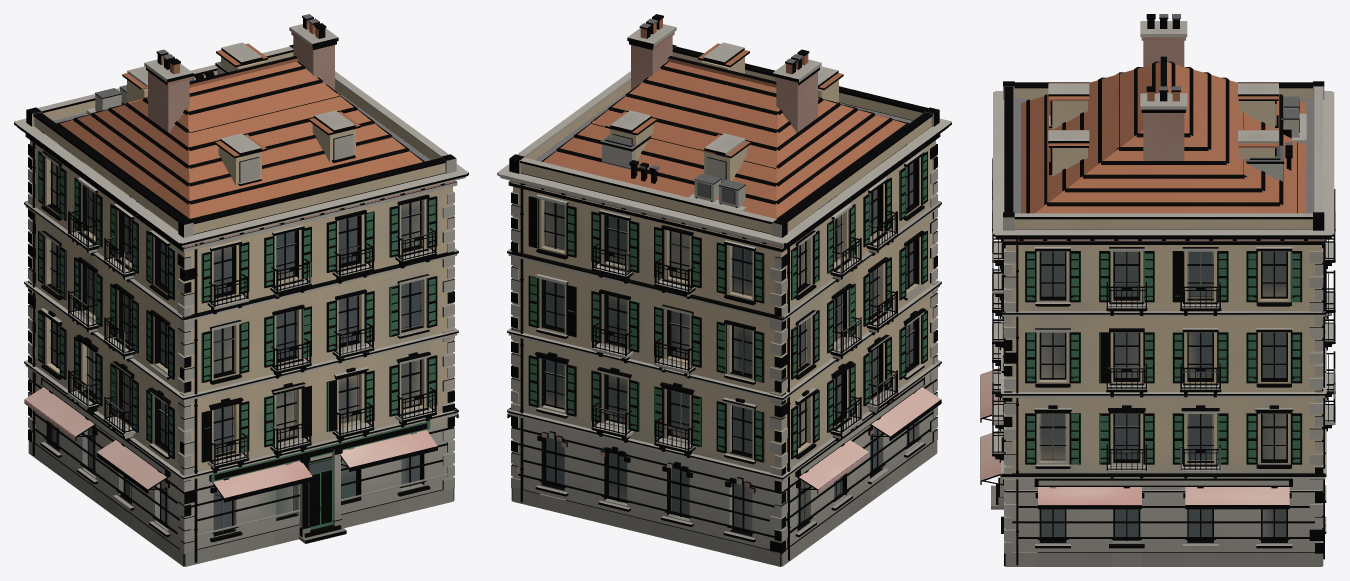
Rendered from BldgStucco.fbx.
3 views of the same model, side by side, from view 1: azimuth 30°, elevation 25°; view 2: azimuth 150°, elevation 25°; view 3: azimuth 270°, elevation 25° (orthographic). The views are drawn at different scales.
Parts seen in each view (by area): view 1: BldgStucco; view 2: BldgStucco; view 3: BldgStucco.
Boxes of the visible parts, left/top/right/bottom form: BldgStucco: left=14, top=14, right=468, bottom=566; BldgStucco: left=497, top=14, right=951, bottom=566; BldgStucco: left=980, top=14, right=1335, bottom=566.
Size of the model in its own units: 1391 by 1874 by 1348.
1 material, 1 textured.
